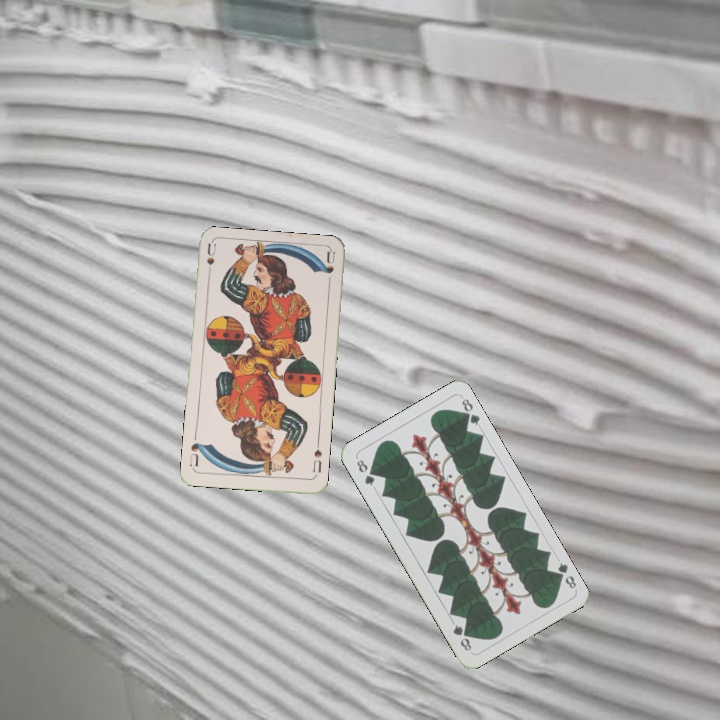G8: (550, 558, 579, 591), (352, 455, 377, 489)
SU: (309, 438, 324, 479), (203, 241, 218, 282)
